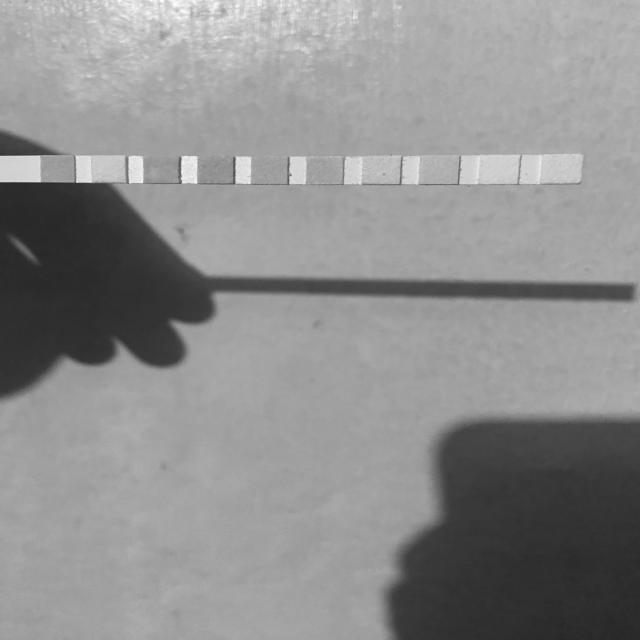Bilirubin: (93, 157, 125, 181)
Blood: (253, 158, 286, 183)
Glucose: (42, 156, 72, 181)
Ketone: (145, 158, 177, 182)
Leukocytes: (545, 156, 578, 182)
Nitrite: (482, 157, 517, 183)
Protein: (365, 157, 399, 184)
SpGravity: (200, 158, 232, 182)
Urobilinogen: (422, 158, 457, 184)
background: (0, 0, 640, 640)
pH: (308, 158, 341, 184)
strip: (0, 156, 583, 184)
